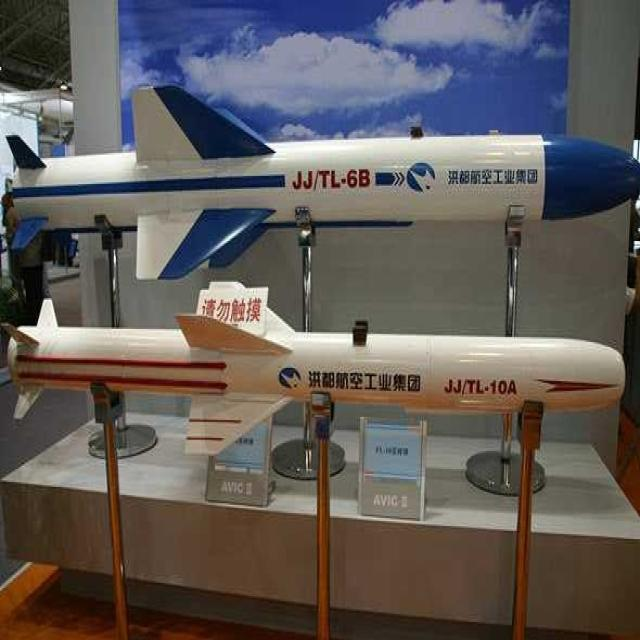missile: (2, 82, 638, 284), (0, 285, 628, 438)
